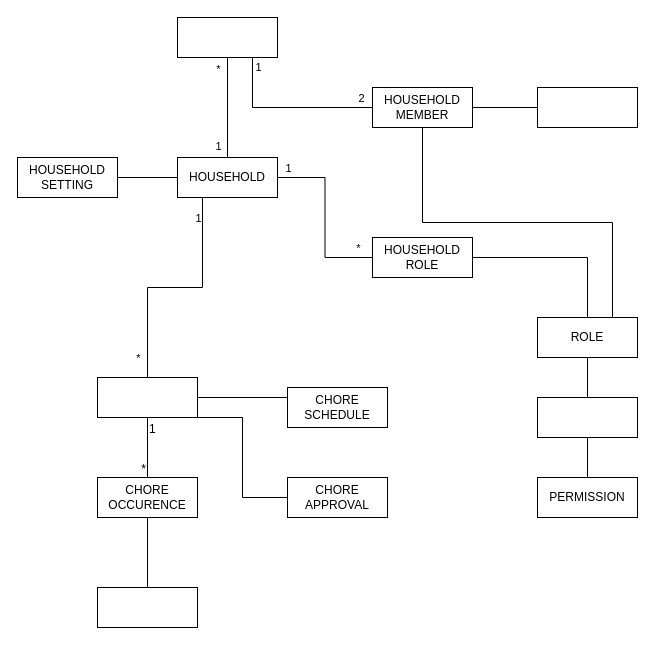
This 655x645 diagram has some shape labels left out. The centre of each missing label's shape, as x and y in pixels:
"CHORE" belongs at point 147,397.
"CHORE COMPLETION" belongs at point 147,607.
"HOUSEHOLD INVITE" belongs at point 227,37.
"ROLE PERMISSION" belongs at point 587,417.
"USER" belongs at point 587,107.
